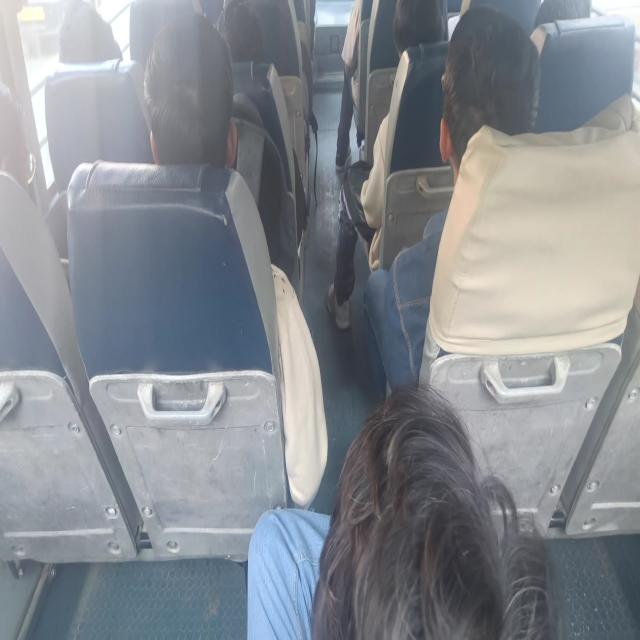person: (142, 11, 328, 508), (246, 382, 559, 638), (362, 5, 541, 399), (326, 0, 447, 329), (142, 11, 238, 168), (334, 0, 362, 172), (58, 0, 123, 64)
